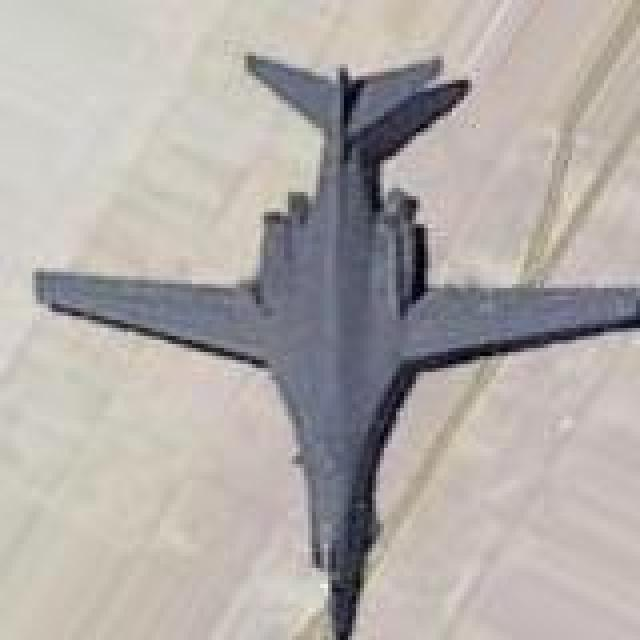B-1_TopDown: (28, 44, 636, 636)
